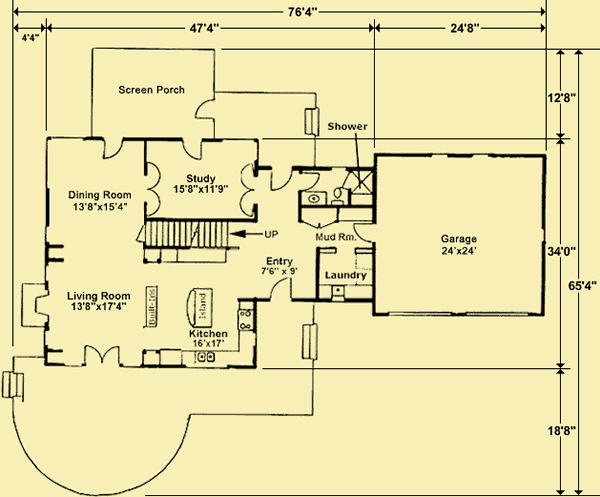door: (81, 342, 123, 371), (178, 134, 206, 165), (269, 272, 296, 304), (267, 164, 294, 194), (350, 218, 380, 245), (97, 135, 129, 160), (193, 96, 218, 123), (298, 167, 321, 192)
kitchen bar: (182, 284, 218, 330)
large sink: (325, 186, 351, 208)
small sink: (298, 190, 329, 208)
stairs: (135, 215, 258, 266)
windows: (460, 308, 531, 322), (386, 307, 452, 320)
